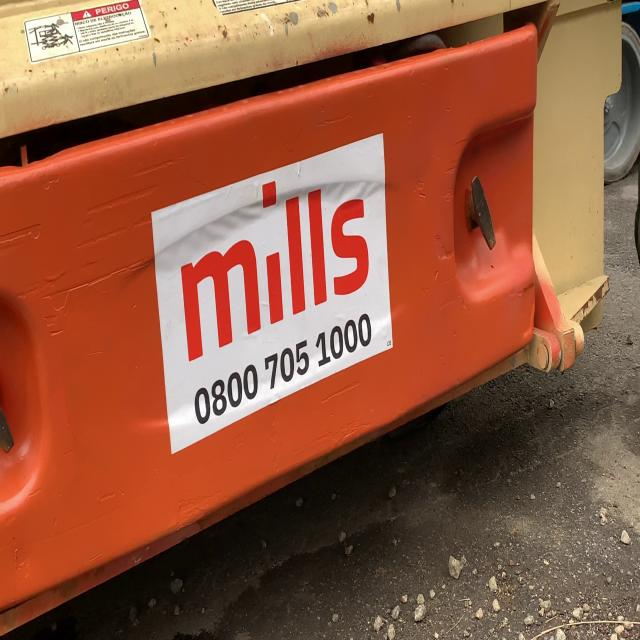Adesivos: (148, 125, 398, 464)
